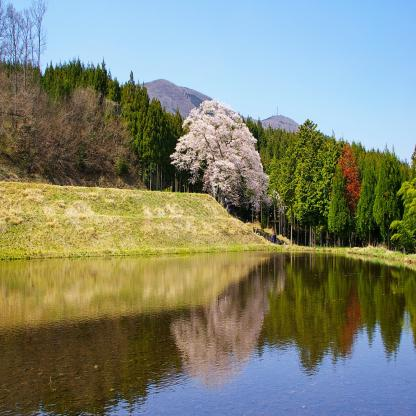EdohiganSakura: (168, 97, 284, 231)
